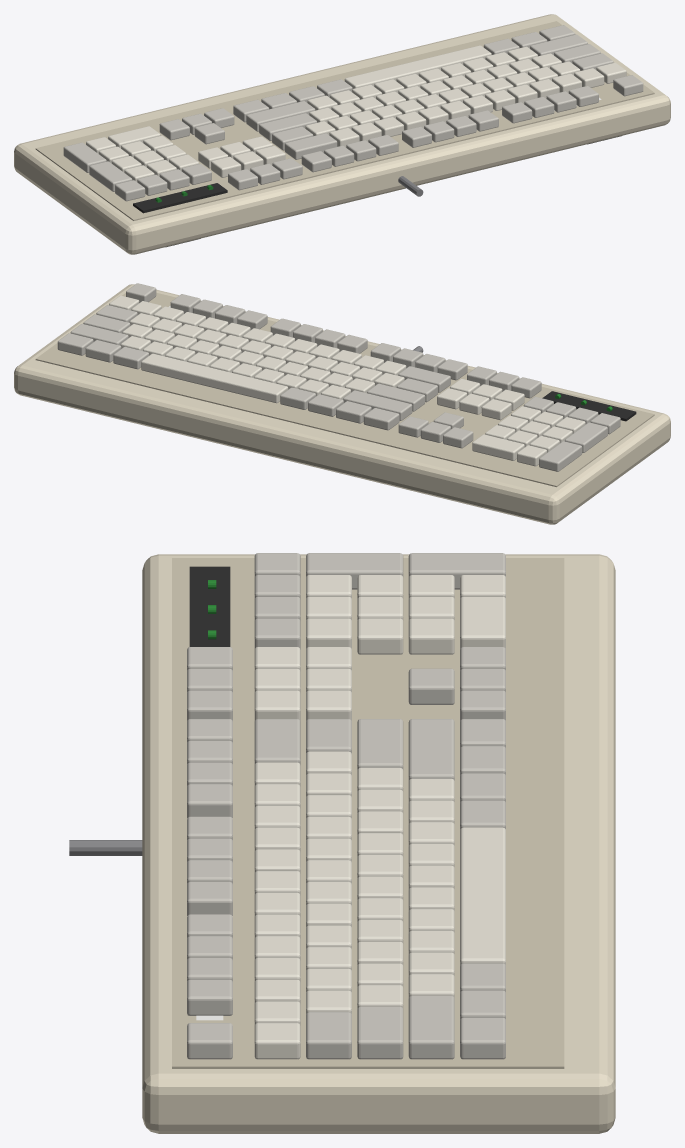
Rendered from keyboard.glb.
The picture shows the model from 3 angles, top to bottom: view 1: azimuth 30°, elevation 25°; view 2: azimuth 150°, elevation 25°; view 3: azimuth 270°, elevation 25°; orthographic projection. The views are drawn at different scales.
Parts seen in each view (by area): view 1: body; view 2: body; view 3: body.
Part boxes in pixels (<box>): body: <box>14,14,670,254</box>; body: <box>14,283,670,524</box>; body: <box>69,553,615,1133</box>.
Bounding box in the file's own units: 0.465 × 0.0368 × 0.202.
